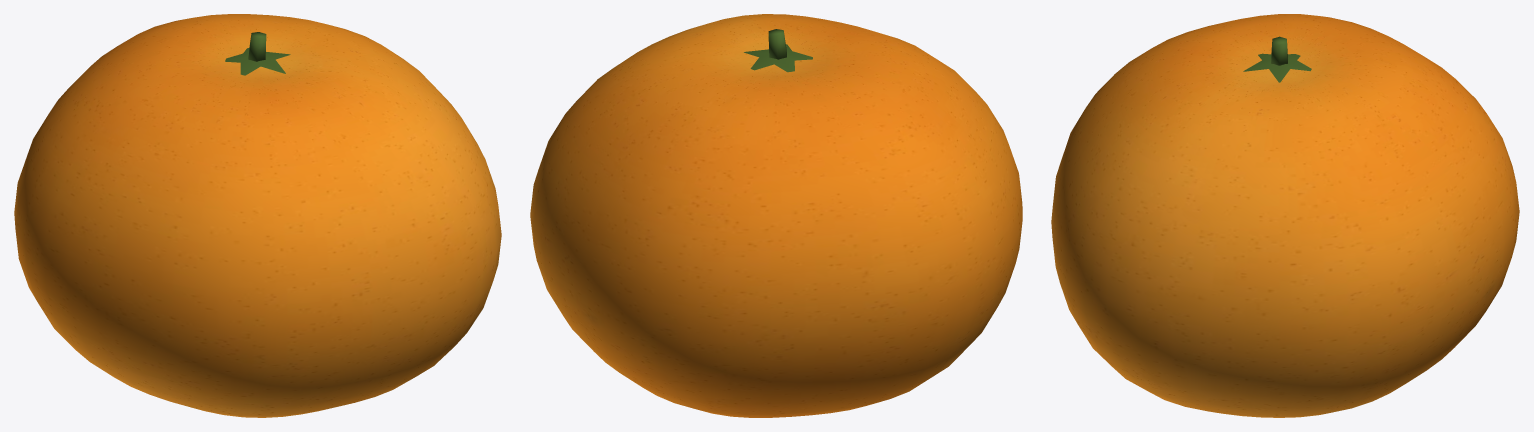
File: tangerine.glb
3 views of the same model, side by side, from view 1: azimuth 30°, elevation 25°; view 2: azimuth 150°, elevation 25°; view 3: azimuth 270°, elevation 25° (orthographic). The views are drawn at different scales.
Parts seen in each view (by area): view 1: tangerine_mesh; view 2: tangerine_mesh; view 3: tangerine_mesh.
Part boxes in pixels (x1,y1,x2,y2): tangerine_mesh: [14, 14, 501, 417]; tangerine_mesh: [530, 14, 1022, 417]; tangerine_mesh: [1051, 14, 1519, 417].
Bounding box in the file's own units: 0.0626 × 0.0484 × 0.0614.
Materials: 1 (1 with a texture image).
